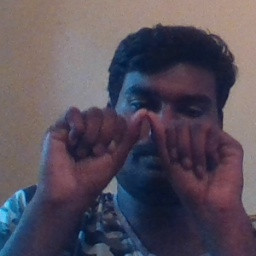A: (62, 98, 224, 207)
